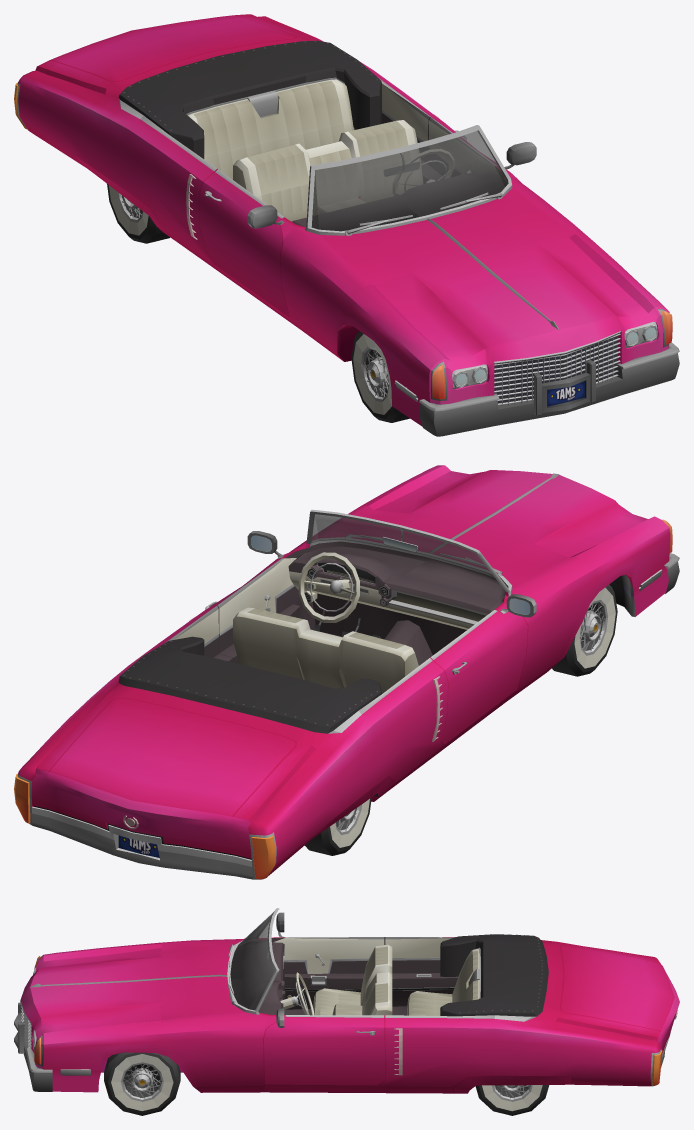
The model's file is tams_Car_02.fbx.
3 renders of one model, top to bottom at view 1: azimuth 30°, elevation 25°; view 2: azimuth 150°, elevation 25°; view 3: azimuth 270°, elevation 25°, orthographic. The views are drawn at different scales.
Visible parts, largest first — view 1: tams_Car; view 2: tams_Car; view 3: tams_Car.
Boxes of the visible parts, bbox=[...] form: tams_Car: bbox=[14, 14, 679, 436]; tams_Car: bbox=[14, 465, 679, 879]; tams_Car: bbox=[14, 908, 679, 1115].
Size of the model in its own units: 168 by 103 by 448.
Materials: 3 (3 with a texture image).
